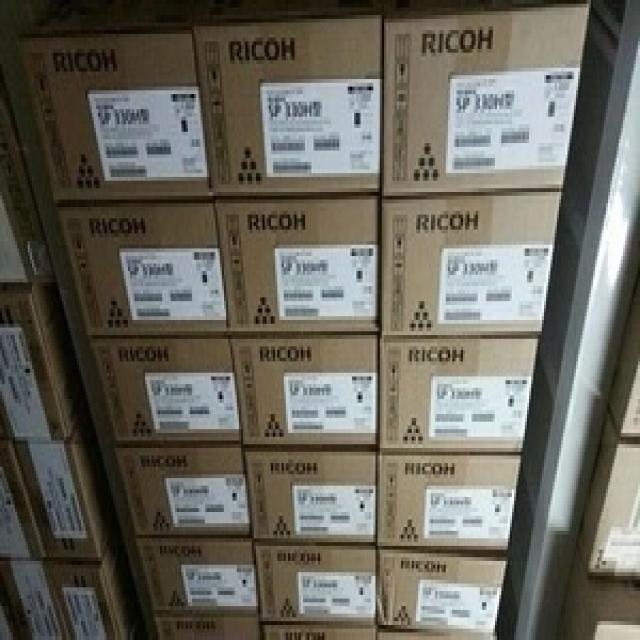box: (382, 0, 593, 196), (194, 15, 382, 196), (19, 30, 213, 203), (382, 192, 561, 335), (215, 200, 380, 335), (58, 203, 226, 335), (380, 339, 540, 452), (230, 339, 378, 444), (92, 339, 241, 440), (378, 452, 523, 550), (0, 282, 79, 444), (245, 452, 375, 546), (115, 448, 250, 535), (17, 437, 109, 561), (378, 550, 508, 636), (0, 90, 55, 286), (576, 425, 640, 576), (254, 546, 375, 625), (137, 538, 258, 614), (47, 553, 139, 640), (561, 557, 640, 640), (610, 282, 640, 440), (0, 448, 41, 561), (9, 557, 62, 640), (156, 614, 262, 640), (262, 625, 375, 640)
